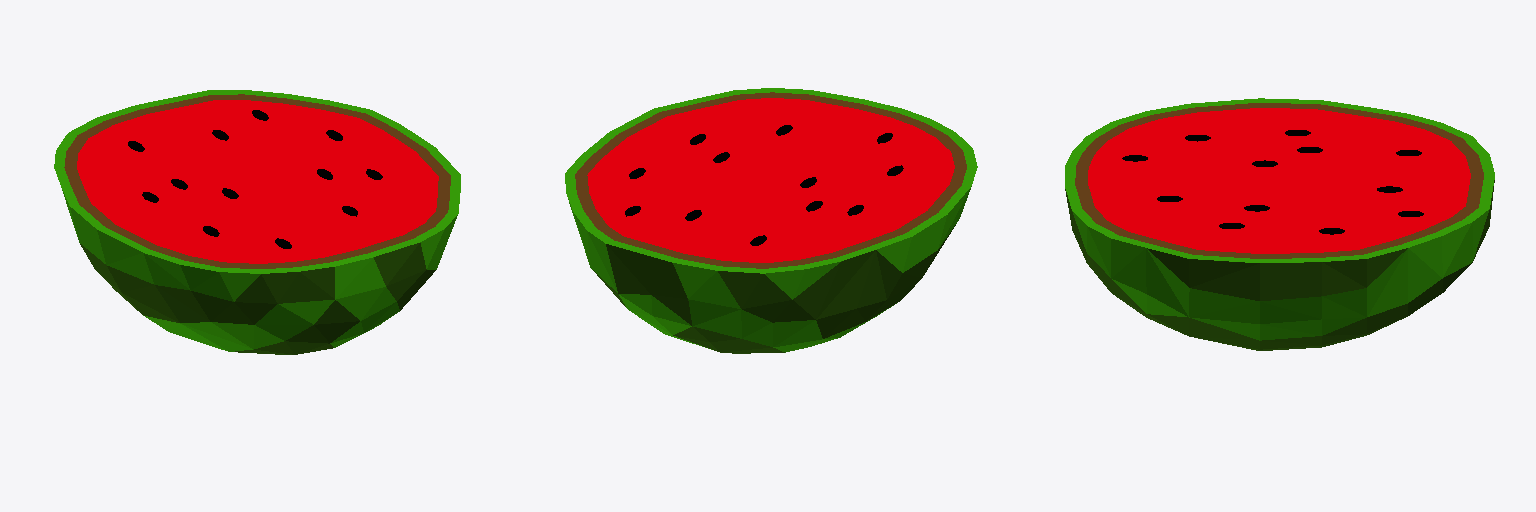
The model's file is watermelon_bottom.obj.
3 views of the same model, side by side, from view 1: azimuth 30°, elevation 25°; view 2: azimuth 150°, elevation 25°; view 3: azimuth 270°, elevation 25° (orthographic).
Parts seen in each view (by area): view 1: watermelon_bottom; view 2: watermelon_bottom; view 3: watermelon_bottom.
Boxes of the visible parts, x1=… form: watermelon_bottom: x1=54, y1=90, x2=460, y2=354; watermelon_bottom: x1=565, y1=88, x2=977, y2=353; watermelon_bottom: x1=1065, y1=98, x2=1494, y2=350.
Size of the model in its own units: 3.74 by 1.62 by 4.13.